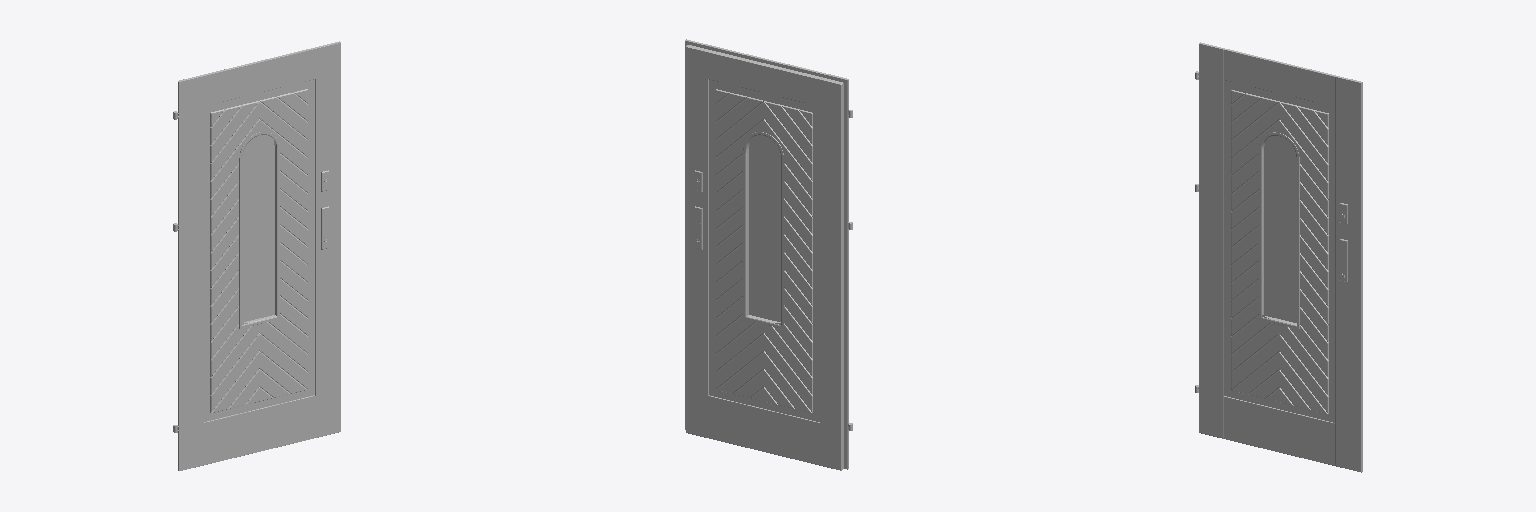
The model's file is processed_055_door.obj.
3 renders of one model, left to right at view 1: azimuth 30°, elevation 25°; view 2: azimuth 150°, elevation 25°; view 3: azimuth 330°, elevation 25°, orthographic.
Visible parts, largest first — view 1: 055_door; view 2: 055_door; view 3: 055_door.
Boxes of the visible parts, box(x1,y1,x2,y2) form: 055_door: box(173, 41, 340, 470); 055_door: box(685, 39, 852, 470); 055_door: box(1195, 42, 1362, 472).
Bounding box in the file's own units: 90.25 × 201 × 6.56.